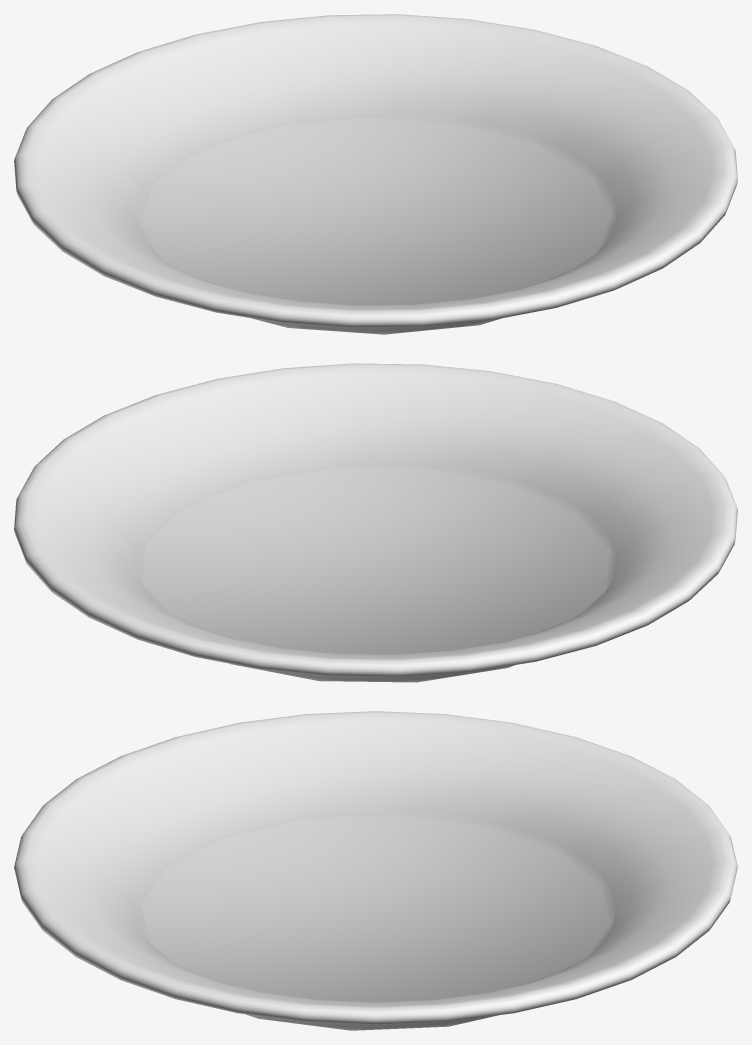
File: plate_005.fbx
3 renders of one model, top to bottom at view 1: azimuth 30°, elevation 25°; view 2: azimuth 150°, elevation 25°; view 3: azimuth 270°, elevation 25°, orthographic.
Parts seen in each view (by area): view 1: plate_005; view 2: plate_005; view 3: plate_005.
Boxes of the visible parts, x1,y1,x2,y2 form: plate_005: [14, 14, 737, 334]; plate_005: [14, 363, 737, 682]; plate_005: [14, 711, 737, 1030].
Size of the model in its own units: 30.05 by 30.05 by 2.99.
